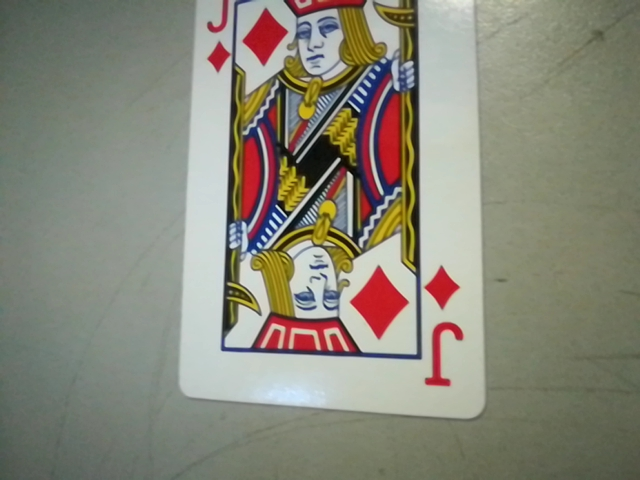fk j: (416, 259, 478, 397)
